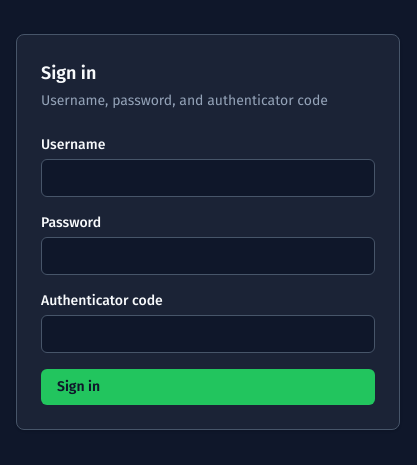
LoginPage › shows lockout countdown on 429 and blocks resubmit
The image size is (417, 465).
Type "admin" into the field labelled "Username". click: (208, 178)
box: [41,159,375,197]
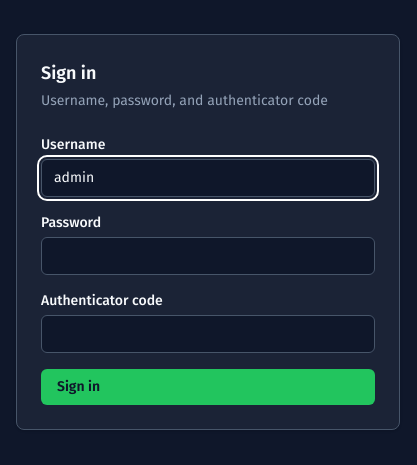
Type "wrong" into the password field labelled "Password". click: (208, 256)
box: [41,237,375,275]
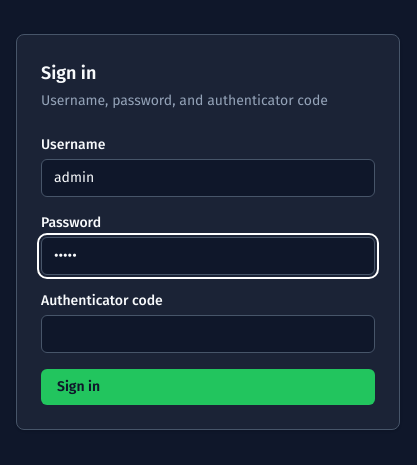
Type "123456" into the field labelled "Authenticator code". click: (208, 334)
box: [41,315,375,353]
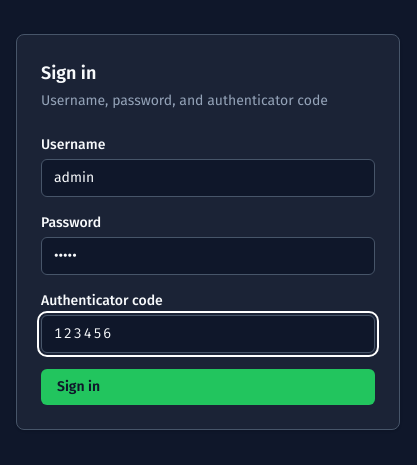
Click the button "Sign in". click: (79, 386)
box: [41,369,375,405]
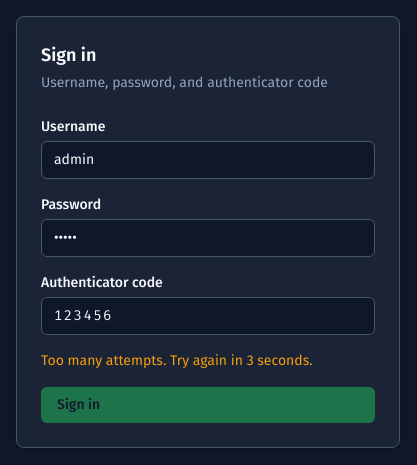
Check: the text "Too many attempts. Try again in 3 seconds." is shown, box [41,352,313,369]
Click the button "Sign in". click: (79, 404)
box: [41,387,375,423]
Wait 3000 ms
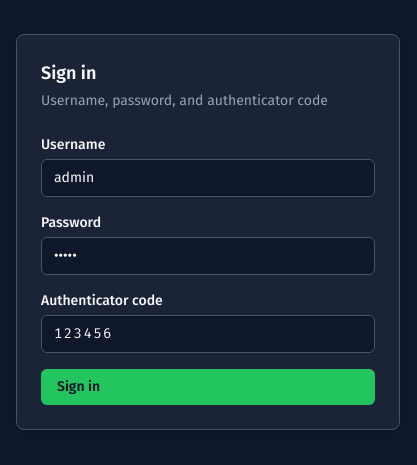
Check: the text "Try again in" is gone
